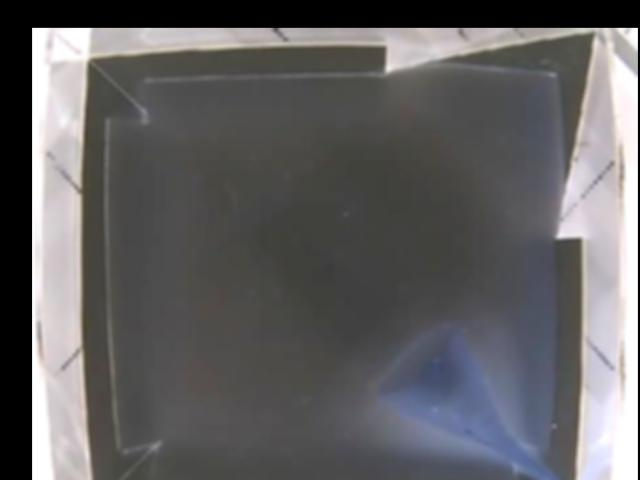Mooli: (372, 324, 522, 453)
